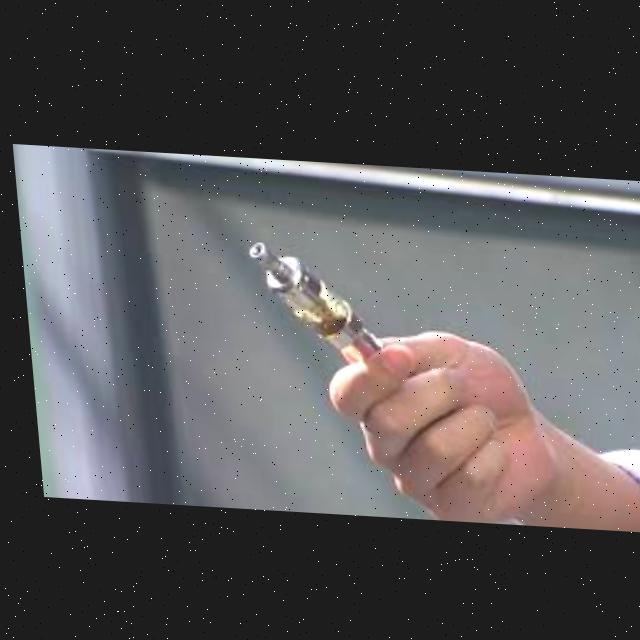vape: (243, 239, 379, 364)
